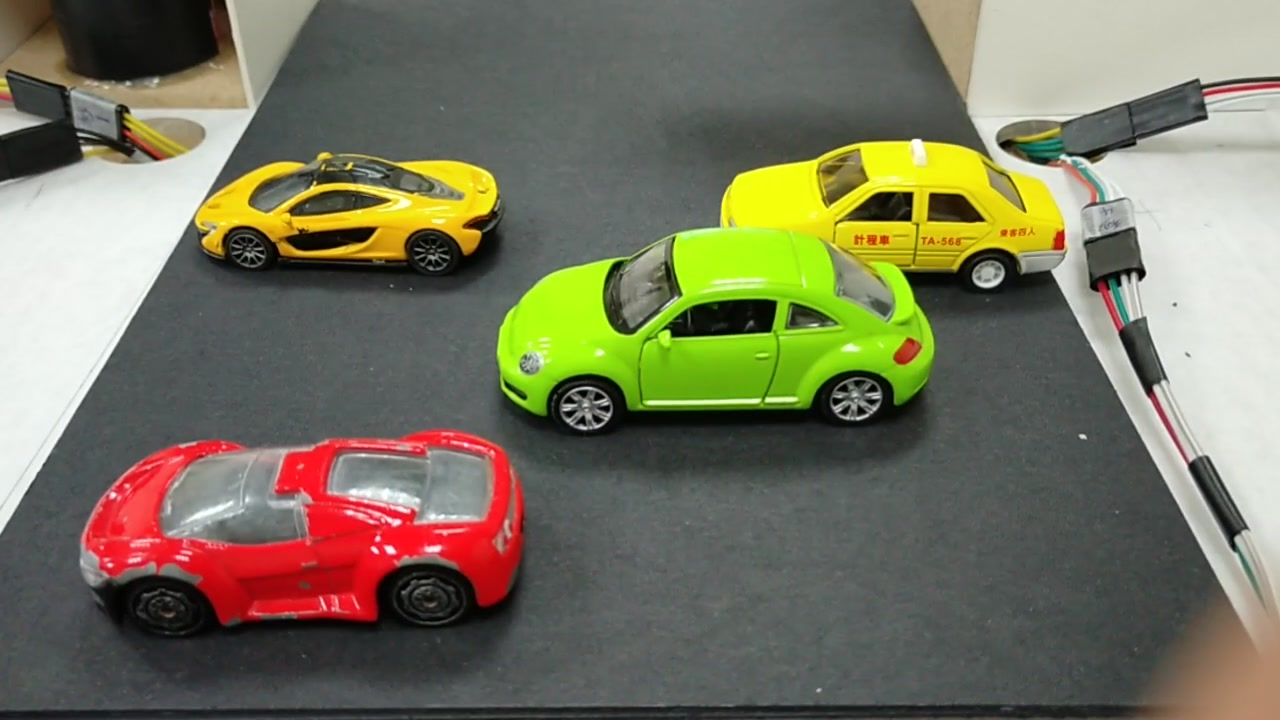car: (88, 443, 522, 624), (489, 256, 935, 431), (726, 144, 1071, 281), (205, 165, 494, 279)
